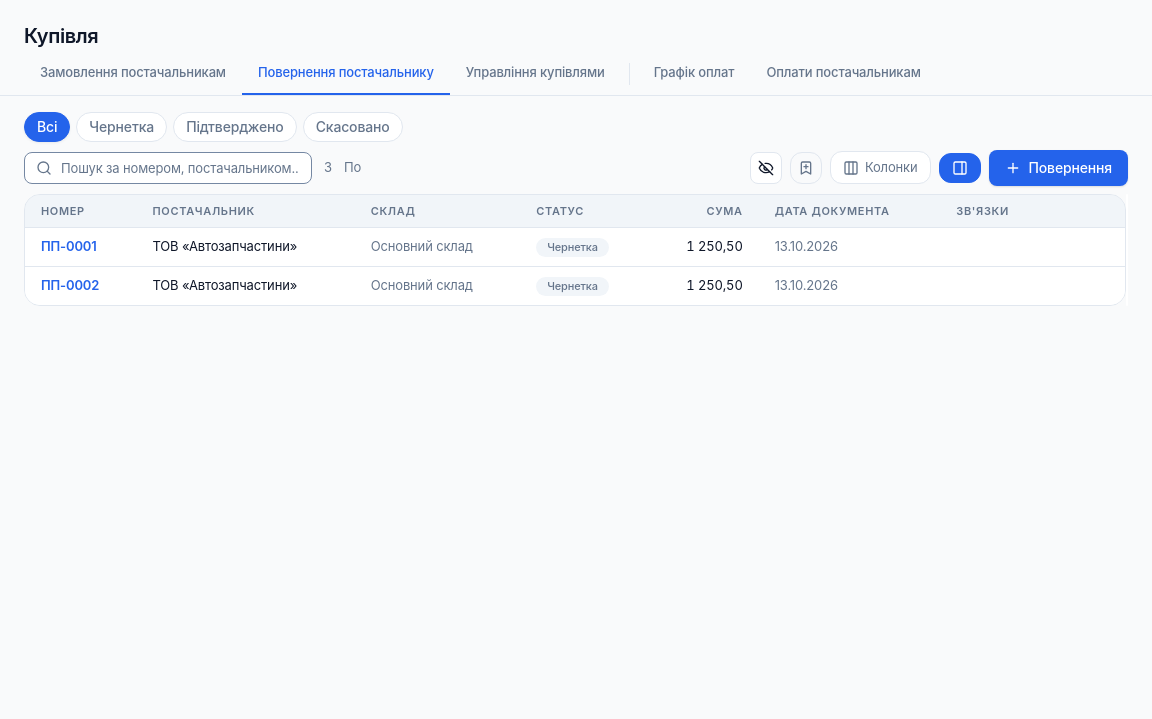
Scenario: Закупівлі — бокова панель повернень і зведення › перемикач панелі повернень пише у свій ключ і не чіпає панель замовлень
expect the link "ПП-0001" is shown: met, box top-left (41, 238), bottom-right (97, 254)
Click the text "ПП-0001": click(575, 247) top-left (25, 228), bottom-right (1125, 266)
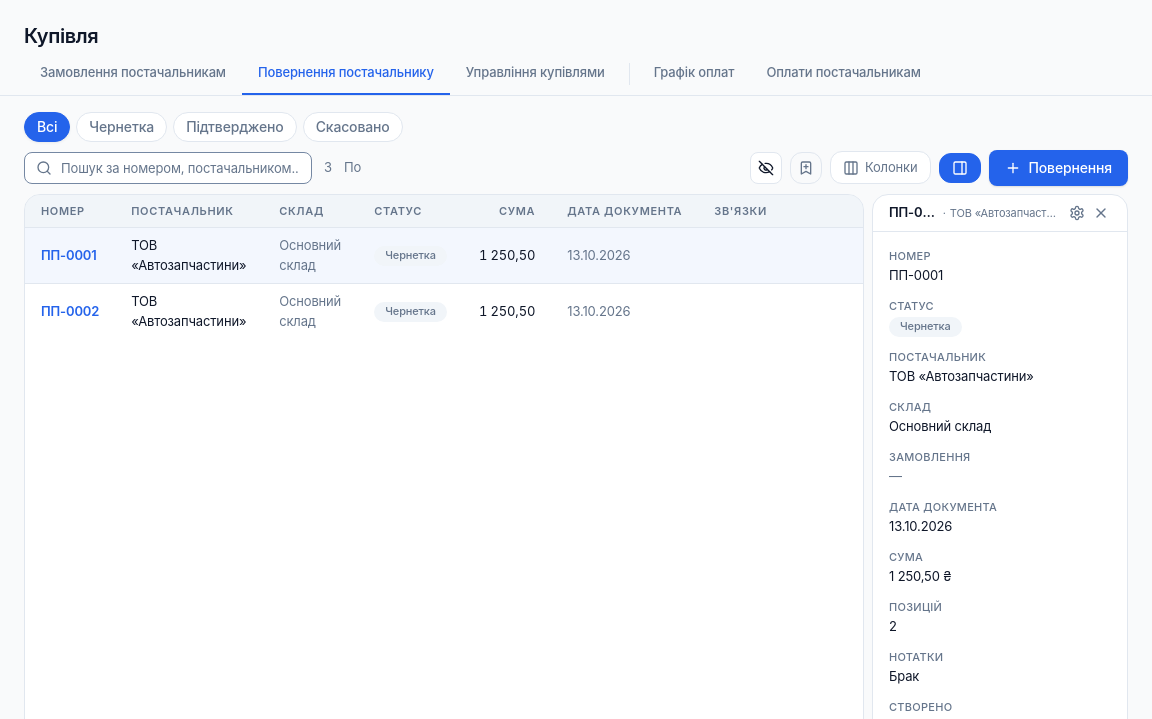
Click the button named "Сховати бокову панель": click(960, 168) top-left (938, 152), bottom-right (980, 182)
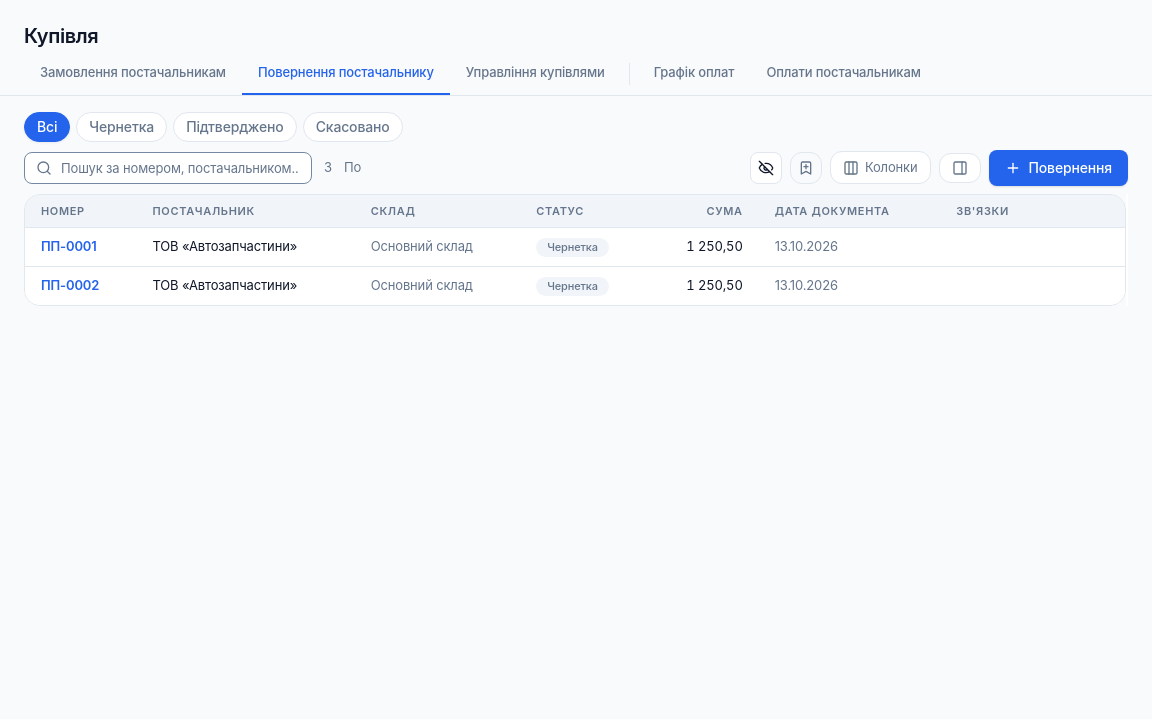
Note: Вибір скинуто: після вмикання клік по тому самому рядку ВІДКРИВАЄ панель, а не закриває.
Click the button named "Показати бокову панель": click(960, 168) top-left (938, 152), bottom-right (980, 182)
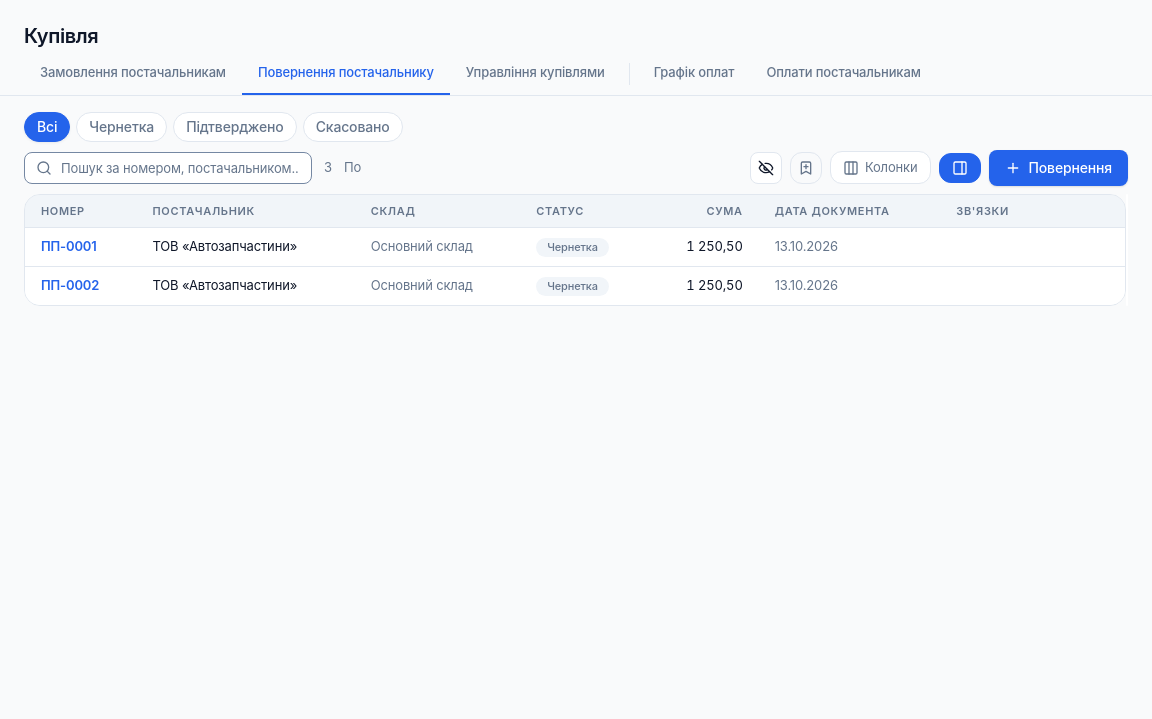
Click the text "ПП-0001": click(575, 247) top-left (25, 228), bottom-right (1125, 266)
(page scrolled)
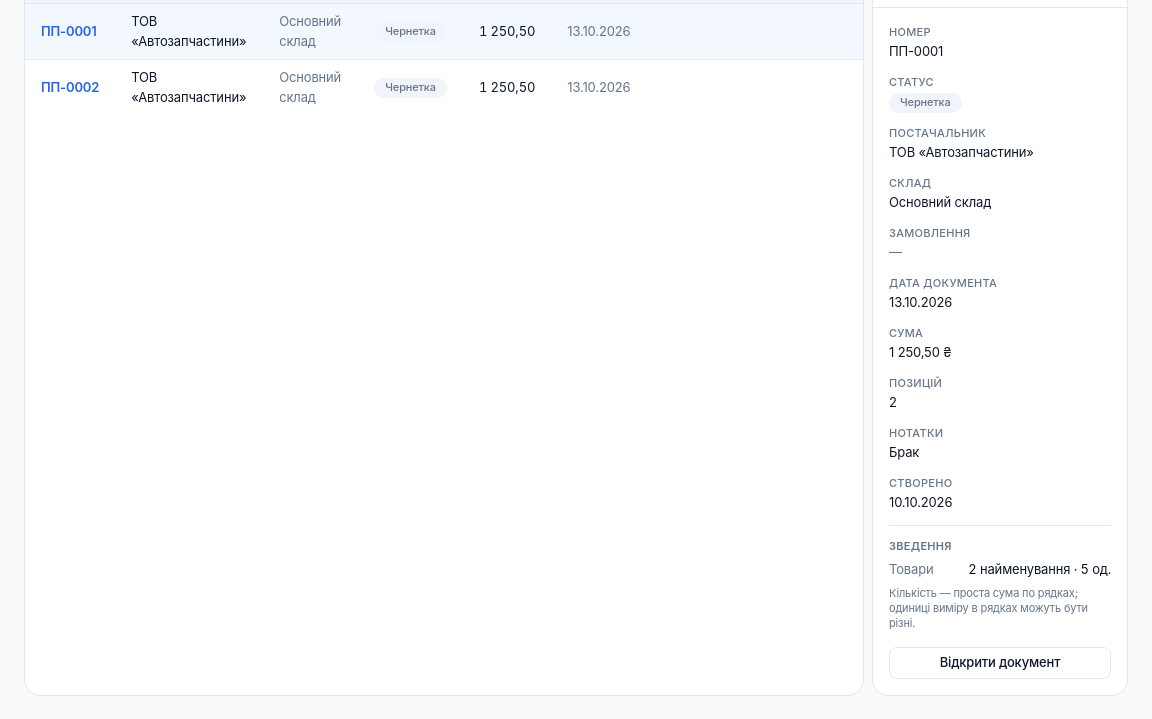
expect the element with test id "lines-summary" is shown: met, box top-left (889, 525), bottom-right (1111, 631)
